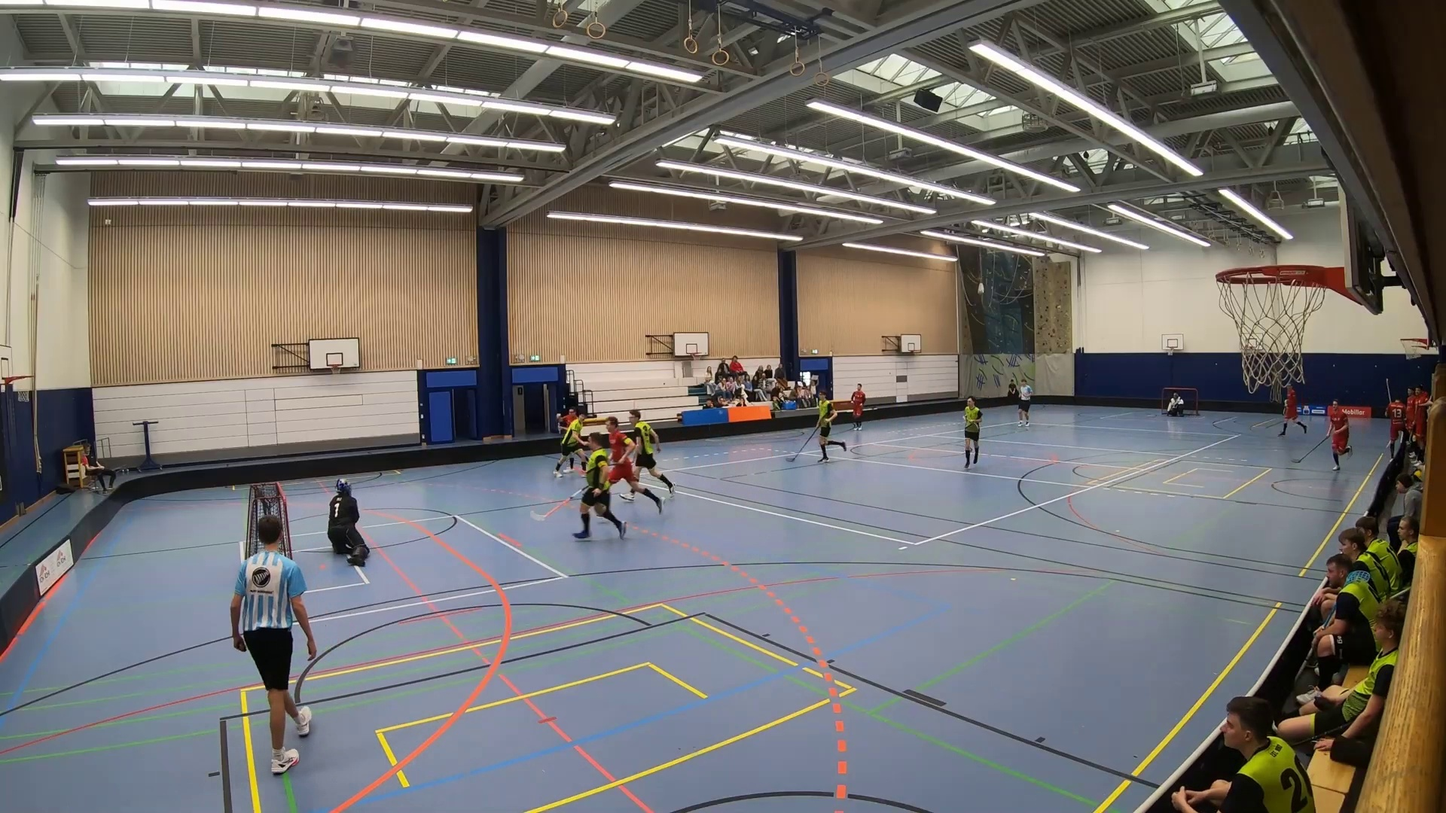Schiri: (192, 489, 333, 779), (1009, 375, 1034, 428)
goalkeeper: (310, 470, 394, 600), (1164, 387, 1187, 416)
player: (528, 431, 633, 548), (594, 411, 667, 515), (622, 406, 680, 503), (781, 389, 848, 468), (1289, 397, 1355, 477), (947, 389, 988, 474), (548, 409, 594, 484), (1259, 379, 1312, 440), (1379, 372, 1407, 452), (844, 381, 874, 435), (553, 398, 576, 431)
